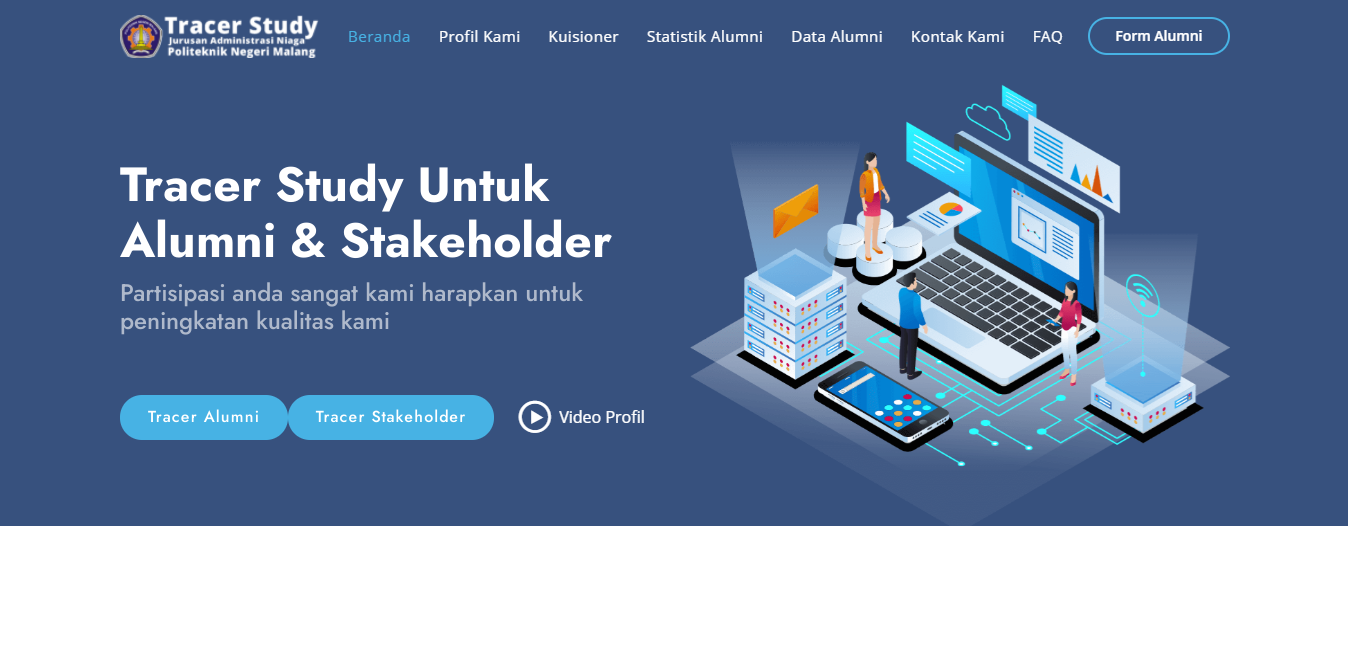Button: (284, 389, 498, 447), (115, 389, 288, 447), (1085, 8, 1237, 63)
Image: (690, 75, 1241, 523), (103, 6, 328, 68)
Menu Bar: (340, 6, 1084, 68)
Nav Bar: (513, 388, 654, 444)
